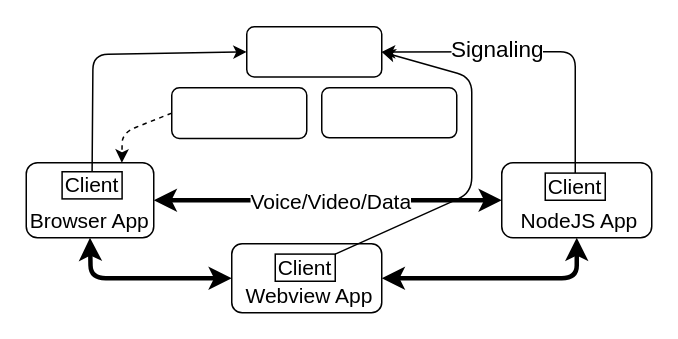
The diagram is 678 pixels wide and 339 high, and some of its shapes have lost their labels. The centre of each missing label's shape, as x and y in pixels:
"3rd PArty App Website" goes at pixel 238 112.
"Signaling Server" goes at pixel 313 51.
"User Management" goes at pixel 388 112.
